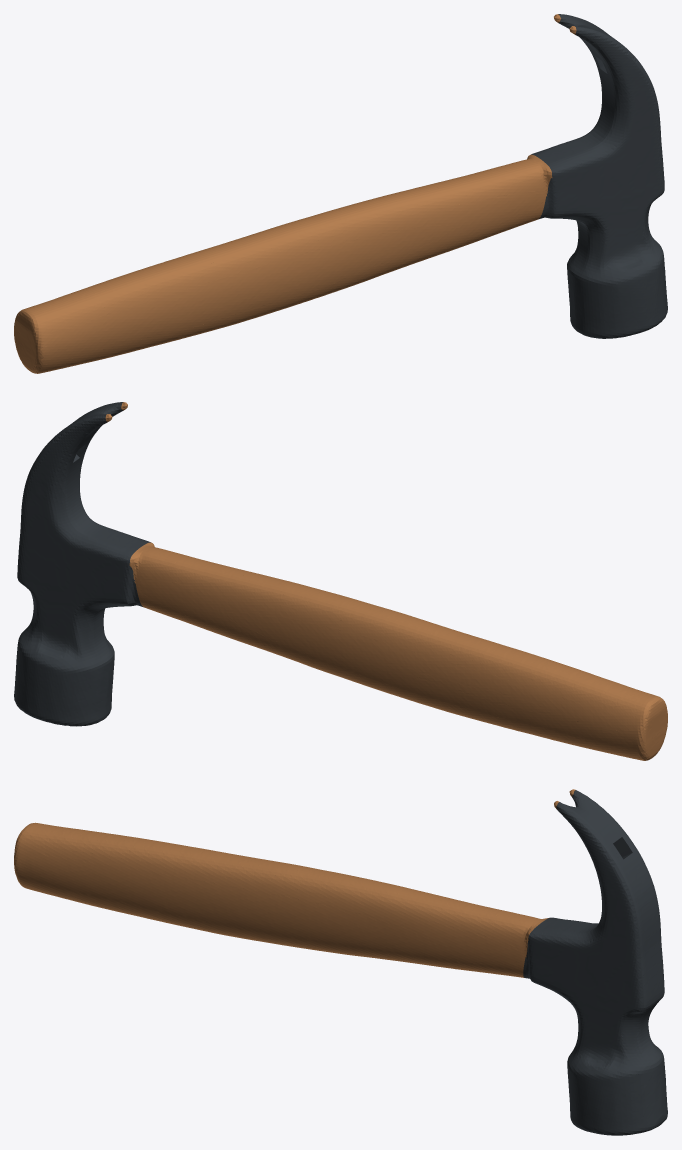
Rendered from hammer-preview.glb.
3 renders of one model, top to bottom at view 1: azimuth 30°, elevation 25°; view 2: azimuth 150°, elevation 25°; view 3: azimuth 330°, elevation 25°, orthographic.
Visible parts, largest first — view 1: hammer_hunyuan_pbr_92eb57, hammer_hunyuan_pbr_90cbd4; view 2: hammer_hunyuan_pbr_92eb57, hammer_hunyuan_pbr_90cbd4; view 3: hammer_hunyuan_pbr_92eb57, hammer_hunyuan_pbr_90cbd4.
Boxes of the visible parts, x1,y1,x2,y2 form: hammer_hunyuan_pbr_92eb57: [14, 14, 576, 373]; hammer_hunyuan_pbr_90cbd4: [531, 14, 667, 338]; hammer_hunyuan_pbr_92eb57: [105, 402, 667, 760]; hammer_hunyuan_pbr_90cbd4: [14, 402, 150, 726]; hammer_hunyuan_pbr_92eb57: [14, 789, 575, 977]; hammer_hunyuan_pbr_90cbd4: [523, 790, 667, 1135].
Bounding box in the file's own units: 0.33 × 0.1561 × 0.0406.
